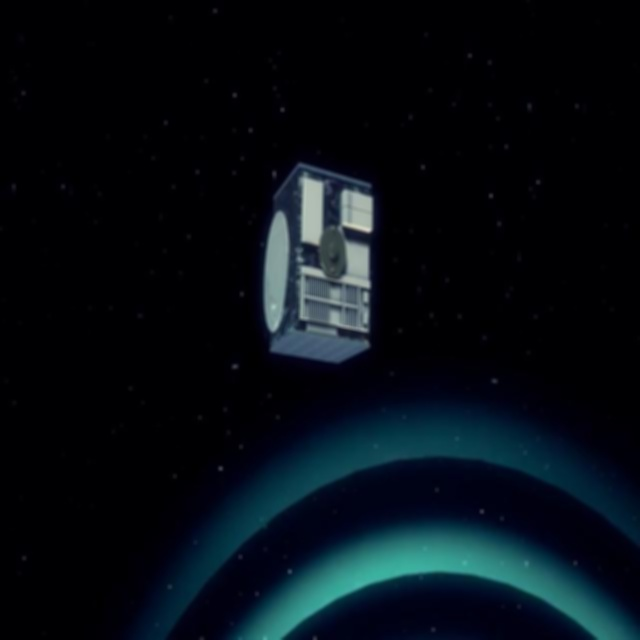satellite: (242, 142, 394, 390)
